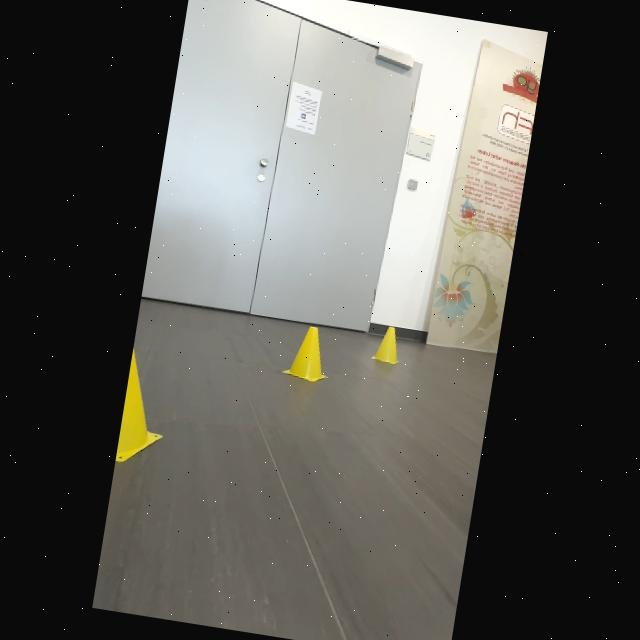yellow_cone: (276, 317, 342, 392), (369, 320, 407, 370)
